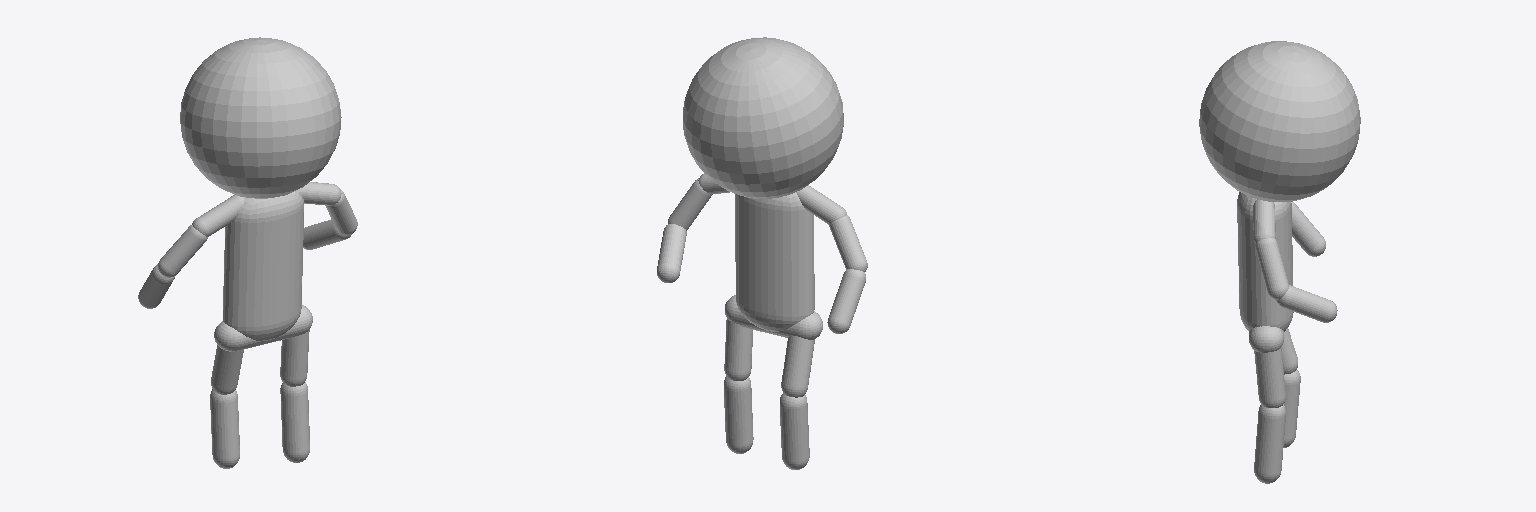
Rendered from Stickman_000047.obj.
3 views of the same model, side by side, from view 1: azimuth 30°, elevation 25°; view 2: azimuth 150°, elevation 25°; view 3: azimuth 270°, elevation 25° (orthographic).
Visible parts, largest first — view 1: Head_Sphere.001, Body_Roundcube.002, LowerLegLeft_Roundcube.013, LowerLegRight_Roundcube.011, Hip_Roundcube.005, UpperLegLeft_Roundcube.012, UpperArmRight_Roundcube.015, UpperLegRight_Roundcube.010, ShoulderRight_Roundcube.014, LowerArmLeft_Roundcube.019, LowerArmRight_Roundcube.016, ShoulderLeft_Roundcube.017 (+1 smaller); view 2: Head_Sphere.001, Body_Roundcube.002, LowerLegRight_Roundcube.011, LowerLegLeft_Roundcube.013, UpperLegRight_Roundcube.010, LowerArmRight_Roundcube.016, UpperLegLeft_Roundcube.012, LowerArmLeft_Roundcube.019, UpperArmRight_Roundcube.015, Hip_Roundcube.005, UpperArmLeft_Roundcube.018, ShoulderRight_Roundcube.014; view 3: Head_Sphere.001, Body_Roundcube.002, LowerLegLeft_Roundcube.013, UpperLegLeft_Roundcube.012, UpperArmLeft_Roundcube.018, LowerArmLeft_Roundcube.019, LowerArmRight_Roundcube.016, LowerLegRight_Roundcube.011, ShoulderLeft_Roundcube.017, Hip_Roundcube.005.
Boxes of the visible parts, box(x1,y1,x2,y2) form: Head_Sphere.001: box(180, 37, 341, 198); Body_Roundcube.002: box(223, 190, 303, 340); LowerLegLeft_Roundcube.013: box(280, 382, 309, 462); LowerLegRight_Roundcube.011: box(210, 389, 239, 468); Hip_Roundcube.005: box(214, 305, 312, 351); UpperLegLeft_Roundcube.012: box(280, 329, 309, 386); UpperArmRight_Roundcube.015: box(158, 225, 207, 277); UpperLegRight_Roundcube.010: box(211, 345, 243, 394); ShoulderRight_Roundcube.014: box(192, 195, 244, 236); LowerArmLeft_Roundcube.019: box(303, 219, 352, 249); LowerArmRight_Roundcube.016: box(138, 264, 174, 308); ShoulderLeft_Roundcube.017: box(297, 182, 341, 205); Head_Sphere.001: box(683, 37, 843, 198); Body_Roundcube.002: box(735, 192, 814, 331); LowerLegRight_Roundcube.011: box(780, 393, 809, 469); LowerLegLeft_Roundcube.013: box(724, 376, 753, 453); UpperLegRight_Roundcube.010: box(781, 336, 814, 397); LowerArmRight_Roundcube.016: box(827, 269, 865, 333); UpperLegLeft_Roundcube.012: box(724, 319, 752, 380); LowerArmLeft_Roundcube.019: box(657, 224, 686, 282); UpperArmRight_Roundcube.015: box(829, 215, 867, 271); Hip_Roundcube.005: box(725, 295, 822, 339); UpperArmLeft_Roundcube.018: box(668, 178, 712, 230); ShoulderRight_Roundcube.014: box(796, 185, 846, 224); Head_Sphere.001: box(1199, 41, 1360, 201); Body_Roundcube.002: box(1237, 192, 1293, 331); LowerLegLeft_Roundcube.013: box(1254, 404, 1285, 483); UpperLegLeft_Roundcube.012: box(1254, 348, 1285, 407); UpperArmLeft_Roundcube.018: box(1255, 238, 1288, 299); LowerArmLeft_Roundcube.019: box(1276, 285, 1337, 322); LowerArmRight_Roundcube.016: box(1291, 202, 1325, 256); LowerLegRight_Roundcube.011: box(1283, 370, 1300, 447); ShoulderLeft_Roundcube.017: box(1253, 199, 1275, 243); Hip_Roundcube.005: box(1249, 326, 1283, 352).
Size of the model in its own units: 5.88 by 11.83 by 4.13.